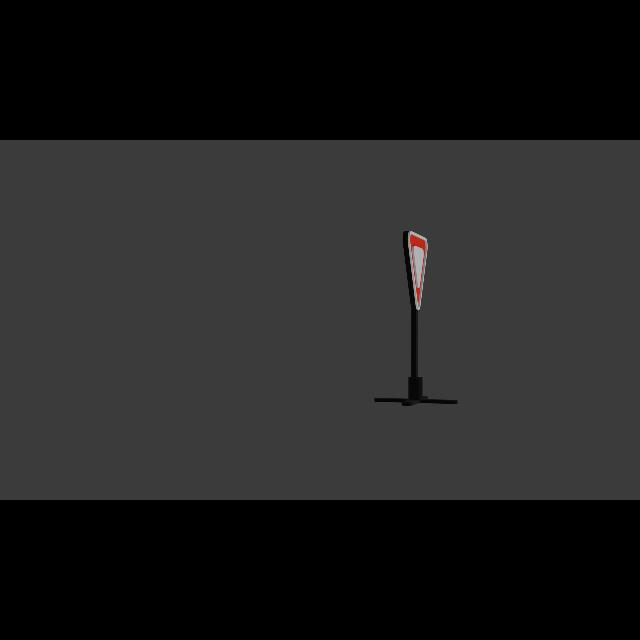sign_yield: (407, 232, 429, 311)
